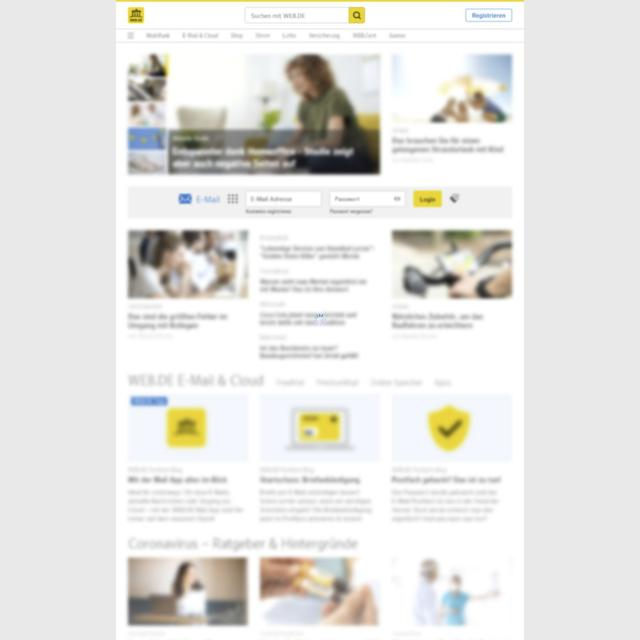CheckBox: (466, 8, 513, 23), (348, 7, 365, 23)
CheckedTextView: (244, 6, 366, 24)
carousel: (352, 11, 362, 20)
data feed: (471, 11, 507, 20)
date picker: (128, 7, 144, 24)
footer: (249, 12, 307, 19)
